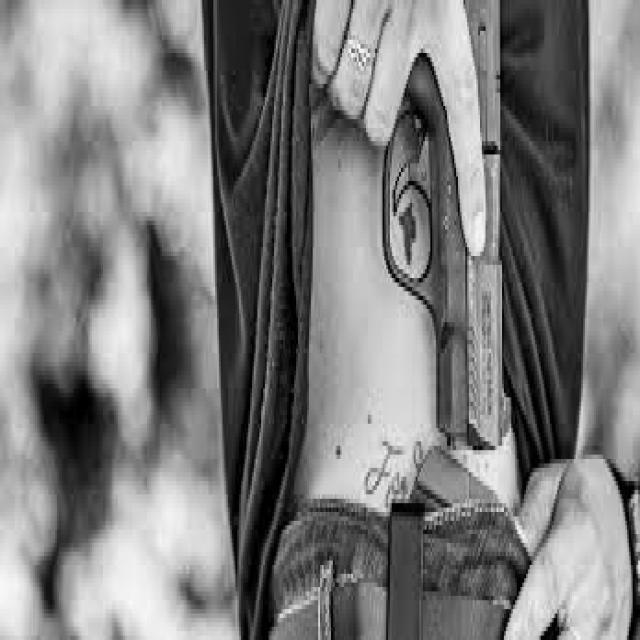handgun: (378, 0, 516, 462)
